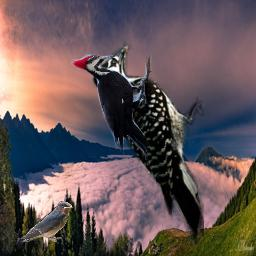Swallow: (20, 201, 73, 244)
Woodpecker: (91, 41, 204, 249), (71, 54, 152, 161)
